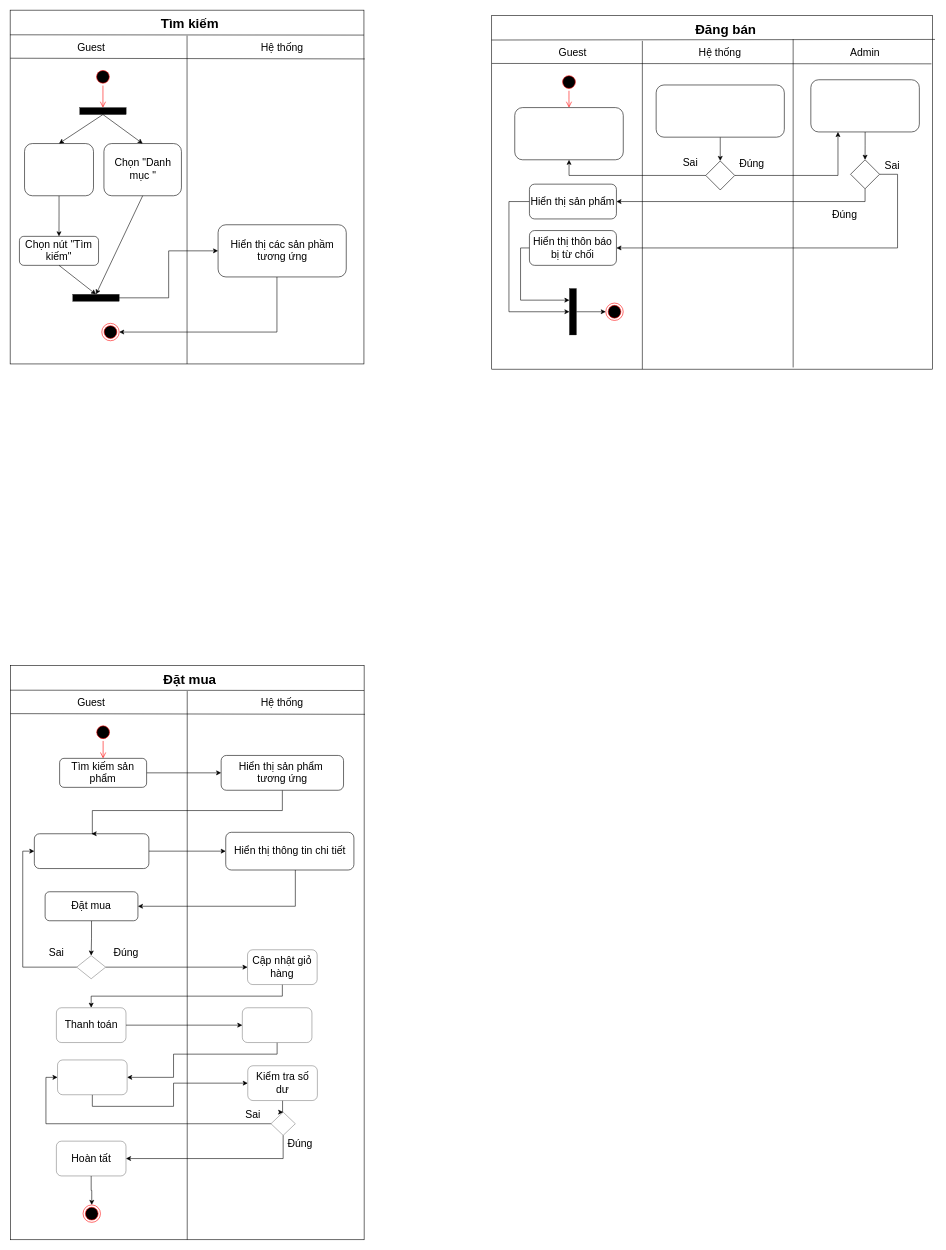
The diagram is 946 pixels wide and 1250 high, and some of its shapes have lost their labels. Each missing label, with the box of its shape:
Chọn kiểu thanh toán: (57, 1060, 127, 1095)
Chọn sản phẩm: (34, 833, 149, 869)
Kiểm duyệt thông tin: (810, 79, 919, 132)
Nhập thông tin cần tìm: (24, 143, 93, 196)
Nhập thông tin sản phẩm: (514, 107, 623, 160)
Tính tiền: (242, 1007, 312, 1042)
Xác thực thông tin: (656, 84, 784, 137)
